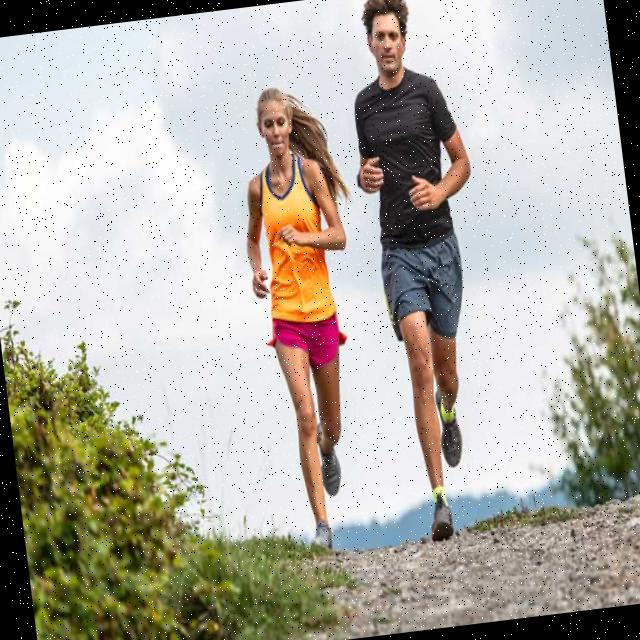Person: (335, 0, 513, 543), (228, 79, 392, 562)
